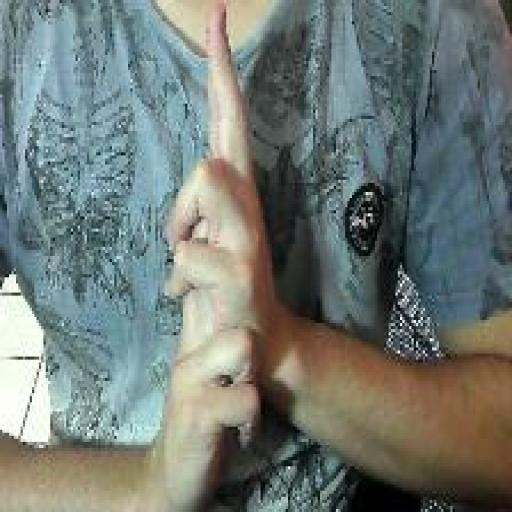Hitsuji -ram-: (162, 4, 277, 510)
